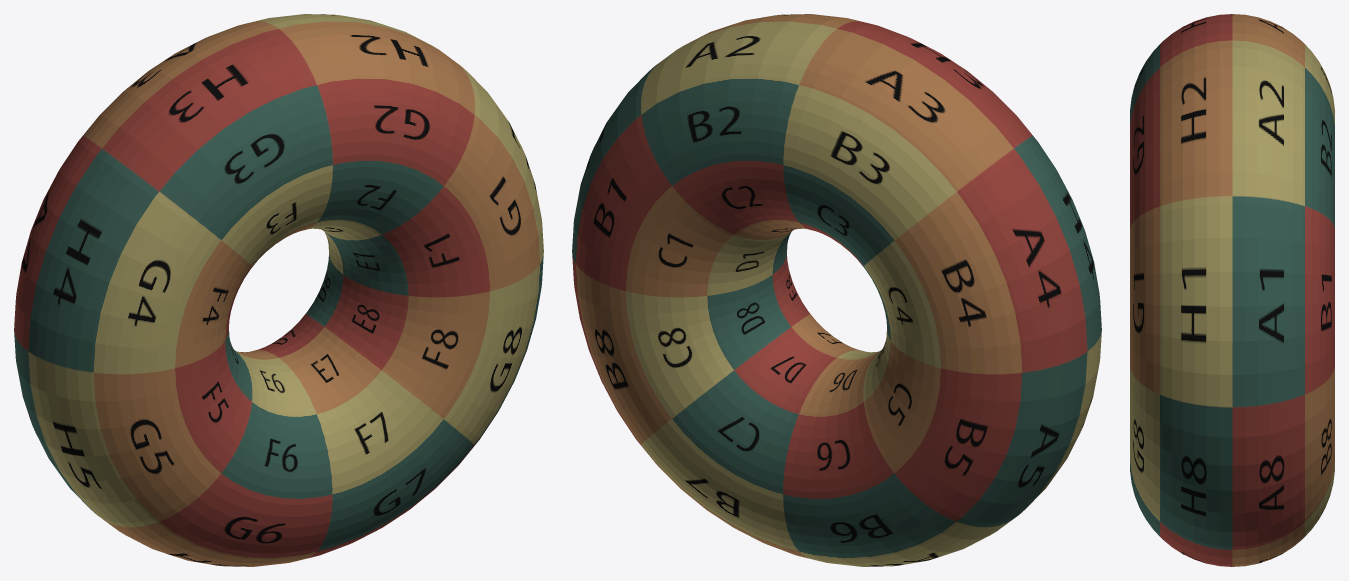
File: texture_torus_R7_r25.glb
3 renders of one model, left to right at view 1: azimuth 30°, elevation 25°; view 2: azimuth 150°, elevation 25°; view 3: azimuth 270°, elevation 25°, orthographic. The views are drawn at different scales.
Visible parts, largest first — view 1: world; view 2: world; view 3: world.
Part boxes in pixels (x1,y1,x2,y2): world: [14, 14, 543, 566]; world: [572, 14, 1101, 566]; world: [1130, 14, 1334, 566].
Size of the model in its own units: 23.33 by 23.29 by 8.65.
1 material, 1 textured.
